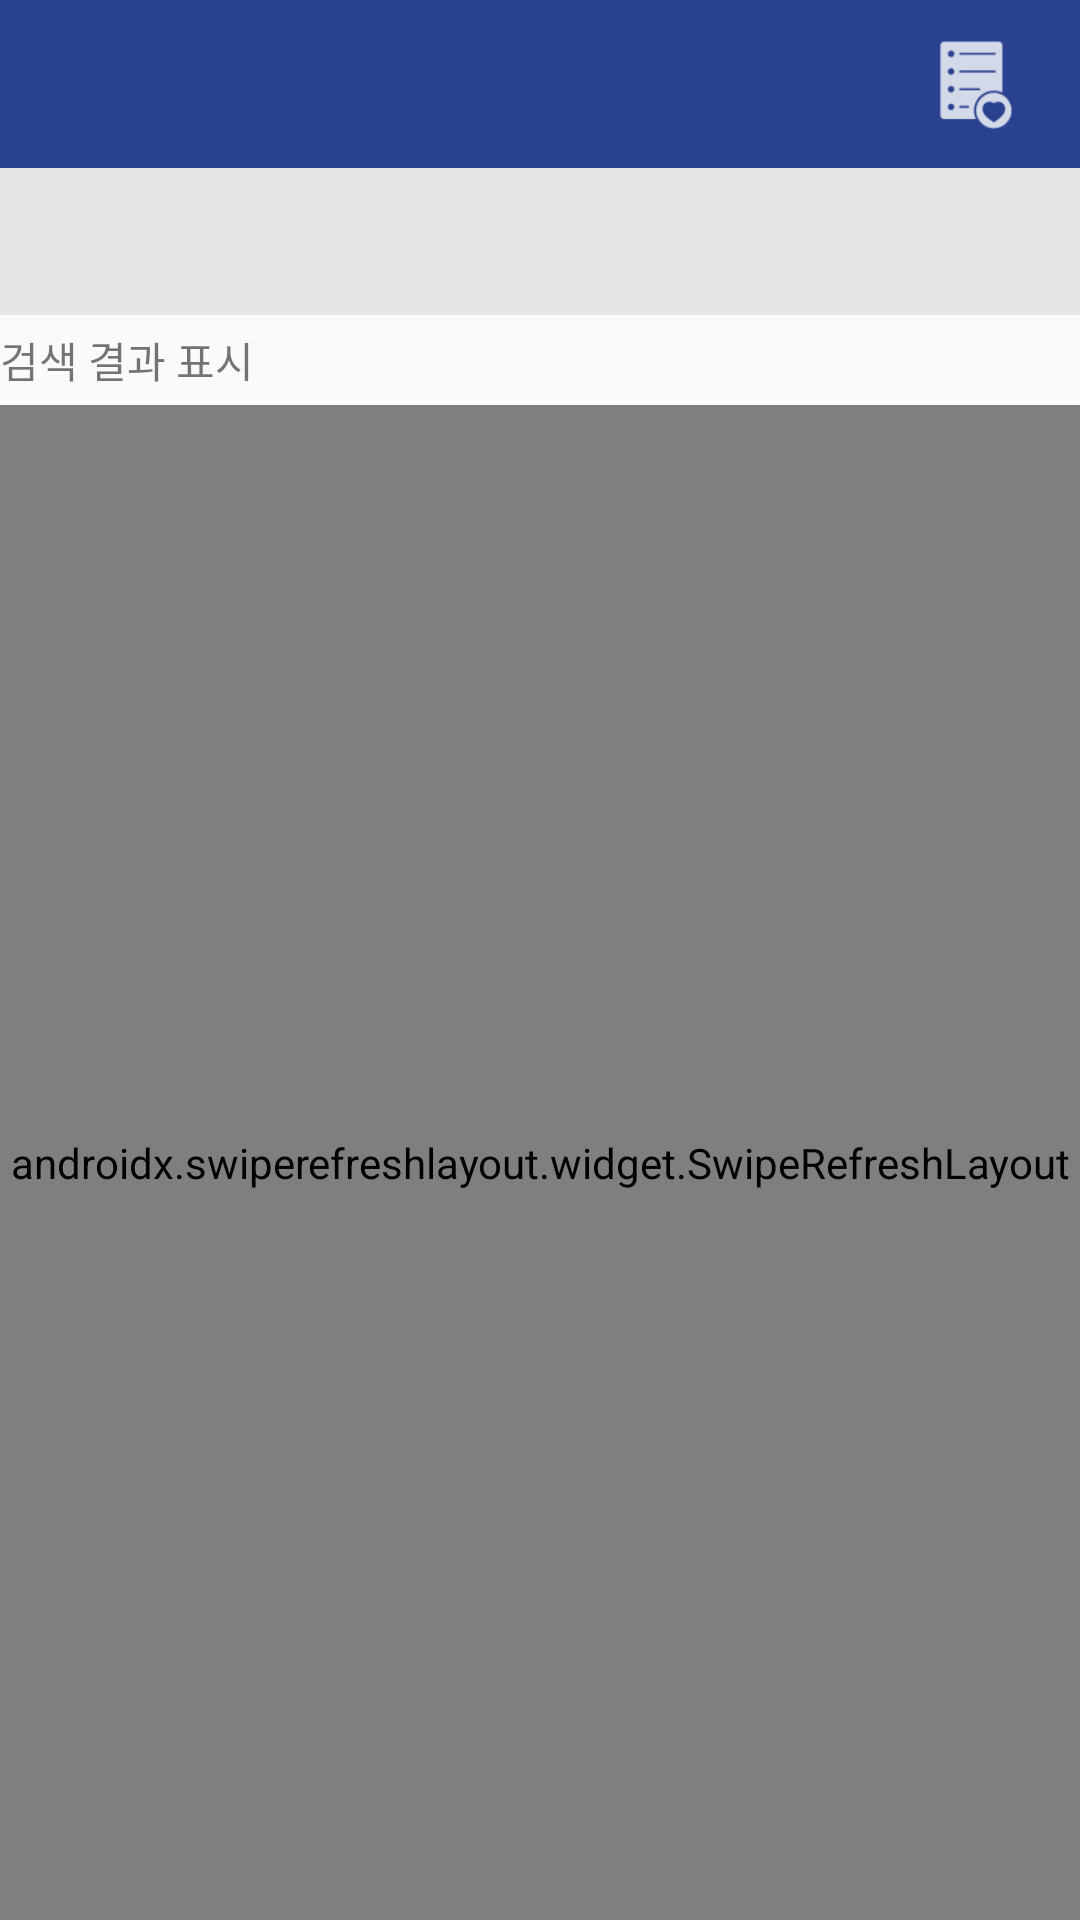

Locate icon controls on the screen. Image size 1080x1920, boxes as region(x1, y1, x2, y2).
wishlist: region(940, 41, 1012, 129)
